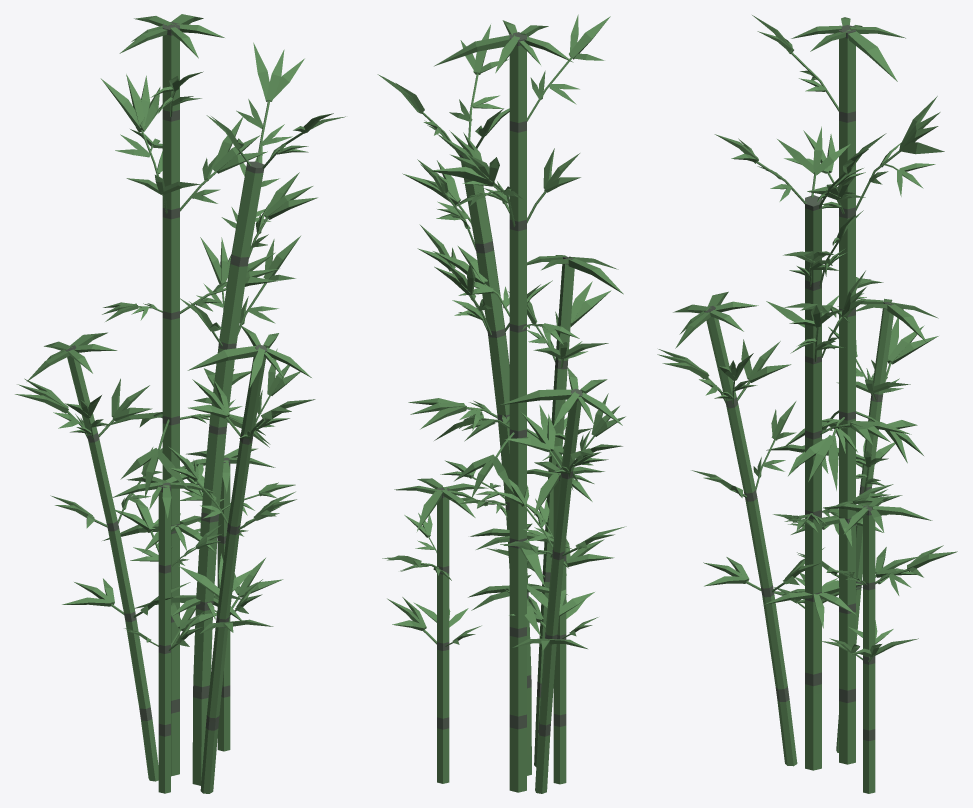
3 views of the same model, side by side, from view 1: azimuth 30°, elevation 25°; view 2: azimuth 150°, elevation 25°; view 3: azimuth 270°, elevation 25° (orthographic). The views are drawn at different scales.
Parts seen in each view (by area): view 1: bamboo24; view 2: bamboo24; view 3: bamboo24.
Boxes of the visible parts, bbox=[...] form: bamboo24: bbox=[15, 14, 345, 793]; bamboo24: bbox=[377, 14, 626, 793]; bamboo24: bbox=[657, 15, 957, 793].
Size of the model in its own units: 142 by 377 by 141.
